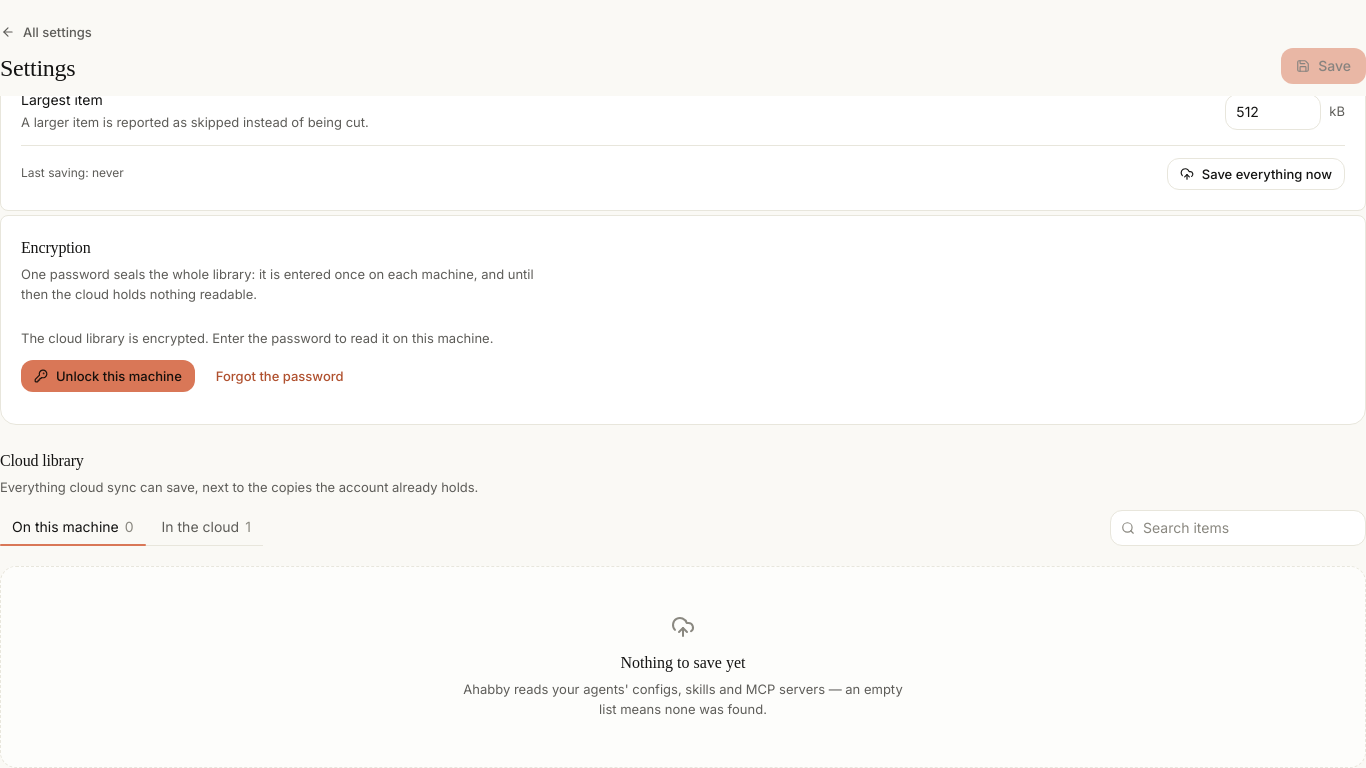
Test: Settings → cloud sync › a_locked_library_is_offered_to_unlock
(page scrolled)
Click the tab "In the cloud1" at coordinates (206, 527), box [150,509,263,545]
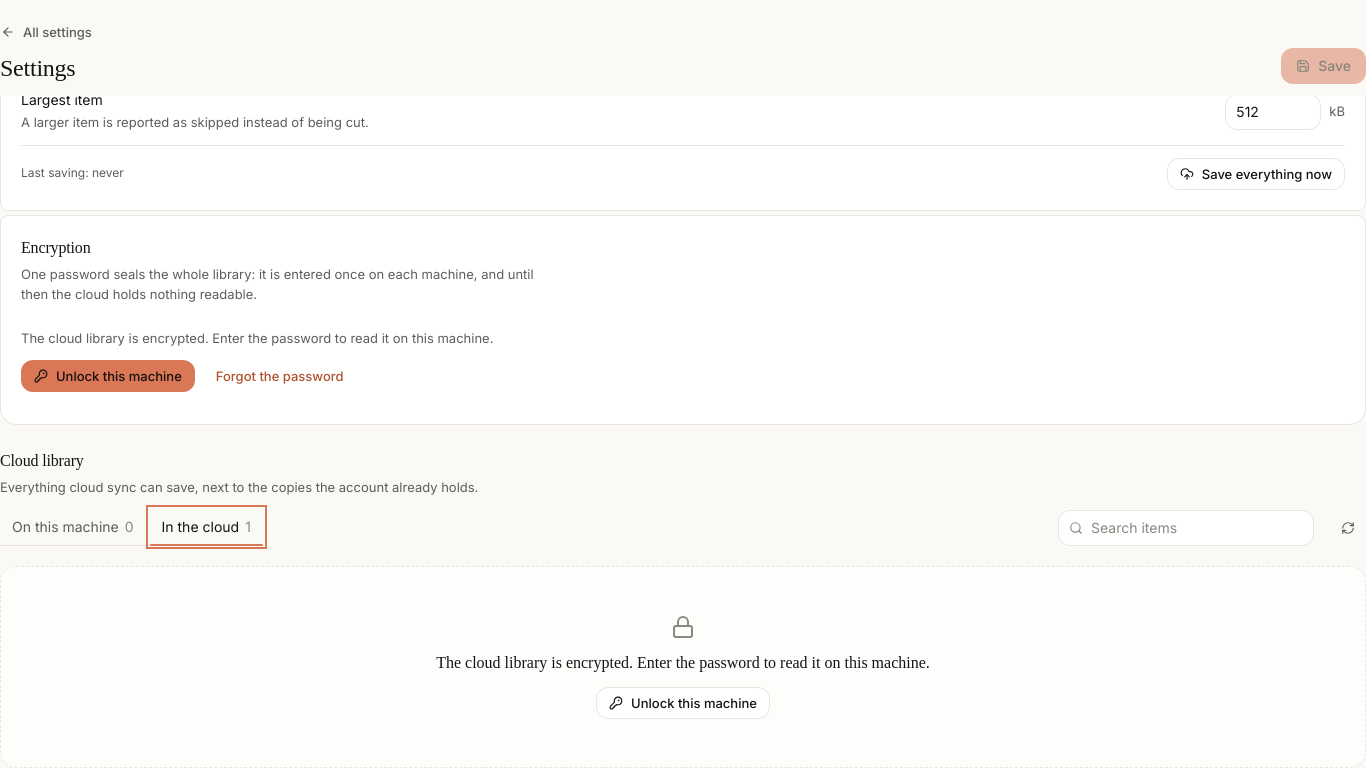
Expected: the 2nd text "The cloud library is encrypted. Enter the password to read it on this machine." is shown, [436,651,930,675]
Click the 2nd button "Unlock this machine" at coordinates (683, 703), box [596,687,770,719]
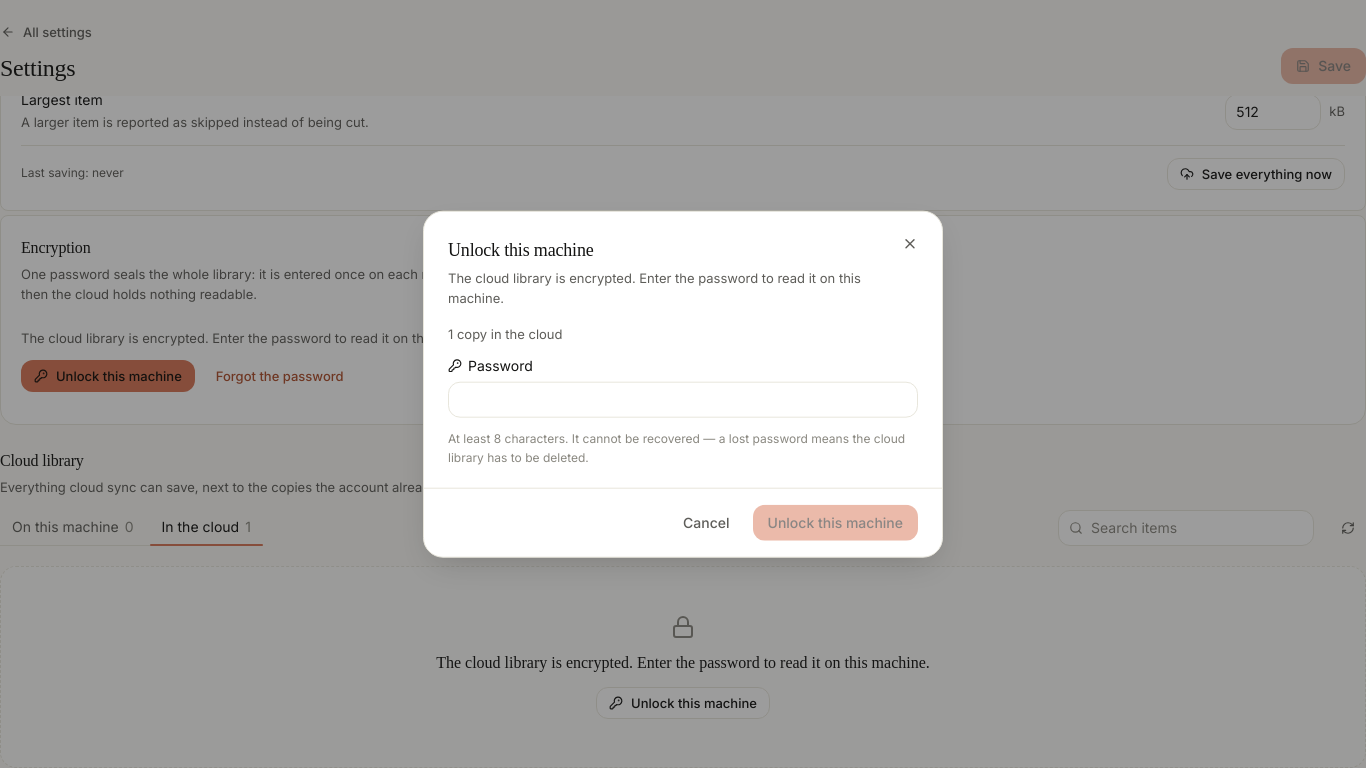
Expected: the password field labelled "Password" is shown, [448,382,918,418]
